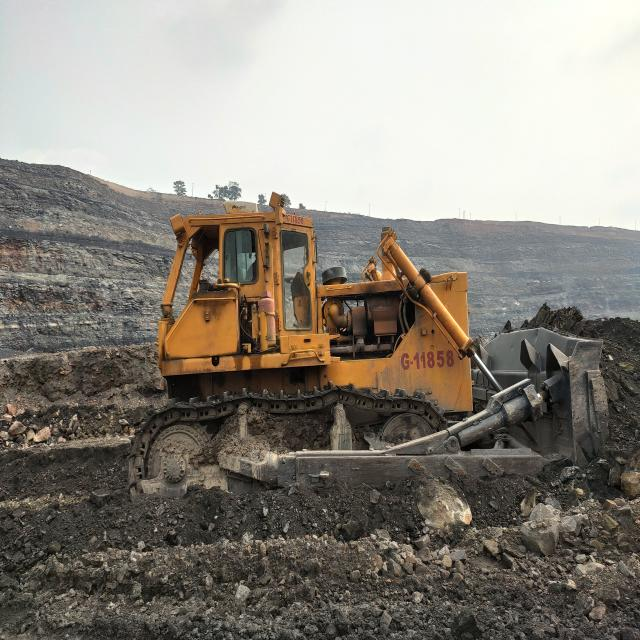buldozerpayloadergrader: (129, 193, 609, 497)
